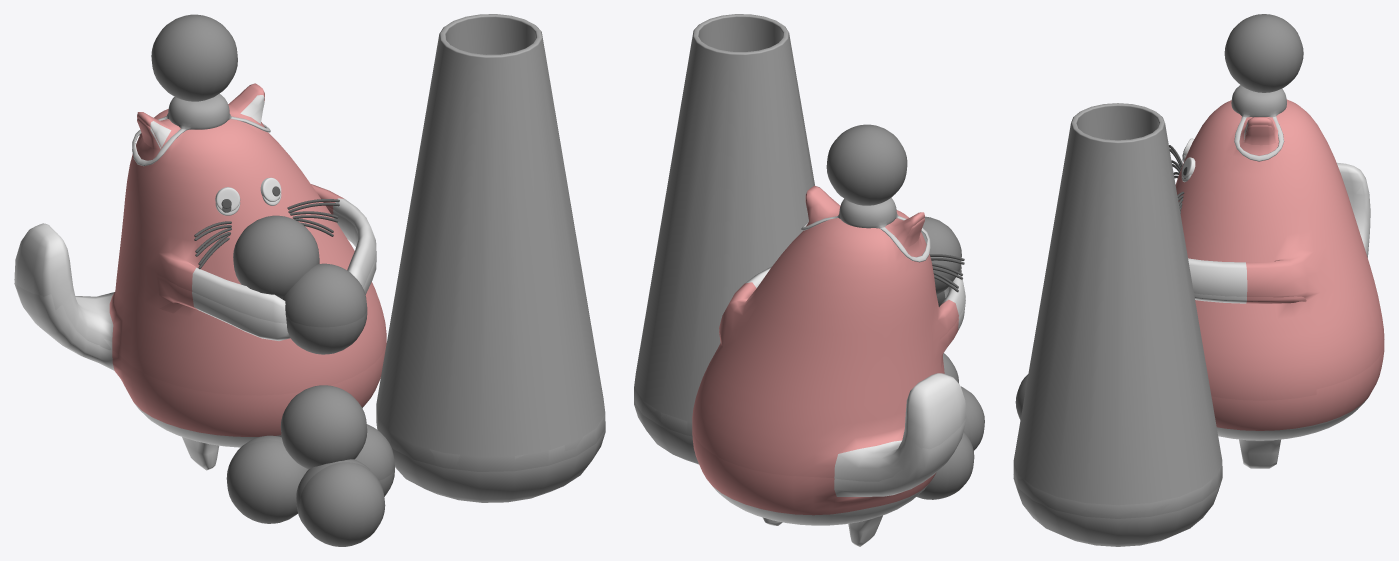
File: motor_cat.fbx
The picture shows the model from 3 angles, left to right: view 1: azimuth 30°, elevation 25°; view 2: azimuth 150°, elevation 25°; view 3: azimuth 270°, elevation 25°; orthographic projection. The views are drawn at different scales.
Visible parts, largest first — view 1: motor_lv3, motor_lv2, motor_lv1; view 2: motor_lv3, motor_lv2, motor_lv1; view 3: motor_lv3, motor_lv2, motor_lv1.
Boxes of the visible parts, bbox=[...] form: motor_lv3: bbox=[15, 14, 605, 546]; motor_lv2: bbox=[14, 83, 605, 525]; motor_lv1: bbox=[14, 97, 605, 502]; motor_lv3: bbox=[634, 14, 984, 499]; motor_lv2: bbox=[634, 185, 974, 498]; motor_lv1: bbox=[634, 199, 966, 546]; motor_lv3: bbox=[1013, 14, 1383, 518]; motor_lv2: bbox=[1013, 101, 1384, 516]; motor_lv1: bbox=[1013, 125, 1384, 546].
Size of the model in its own units: 1.01 by 0.9738 by 0.7989.
